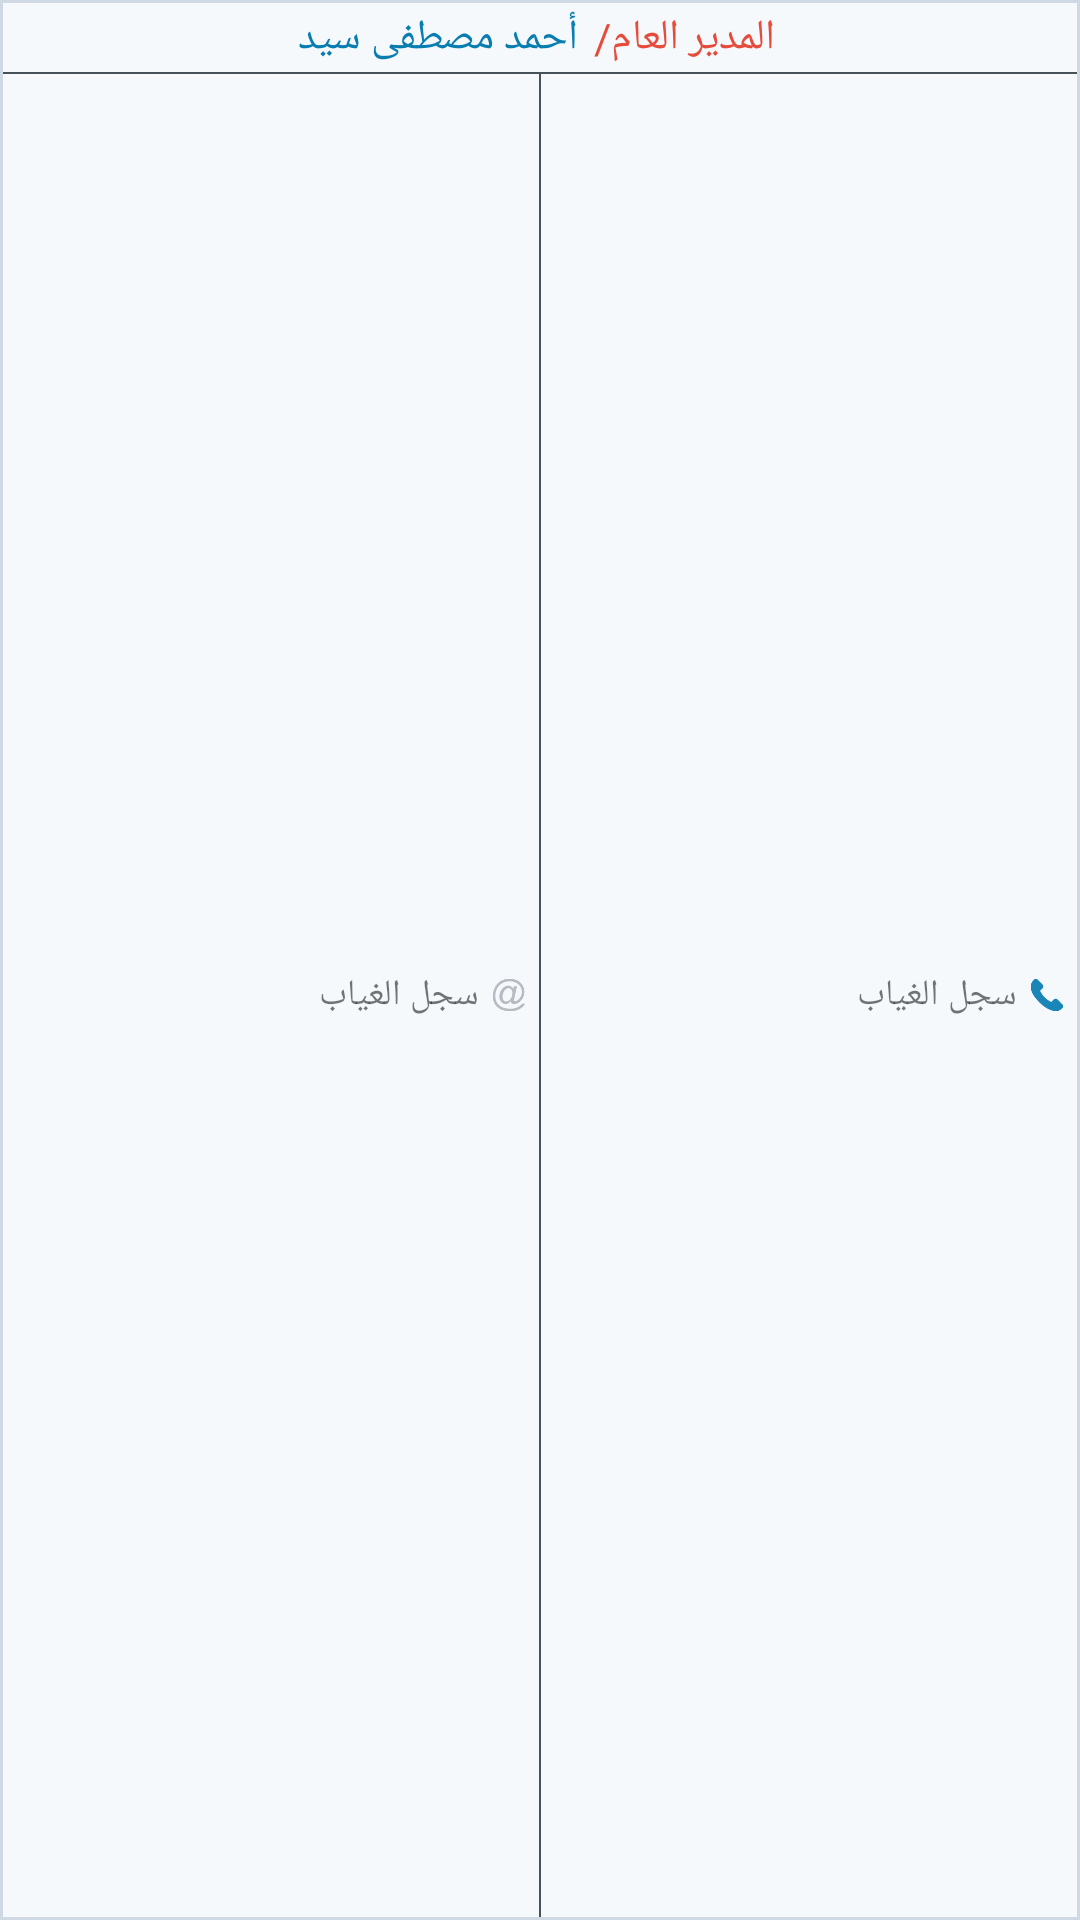

Point at icon controls on the screen. Image size 1080 x 1920, points as (x=x, y=y).
co email: (x=509, y=995)
me call: (x=1047, y=995)
